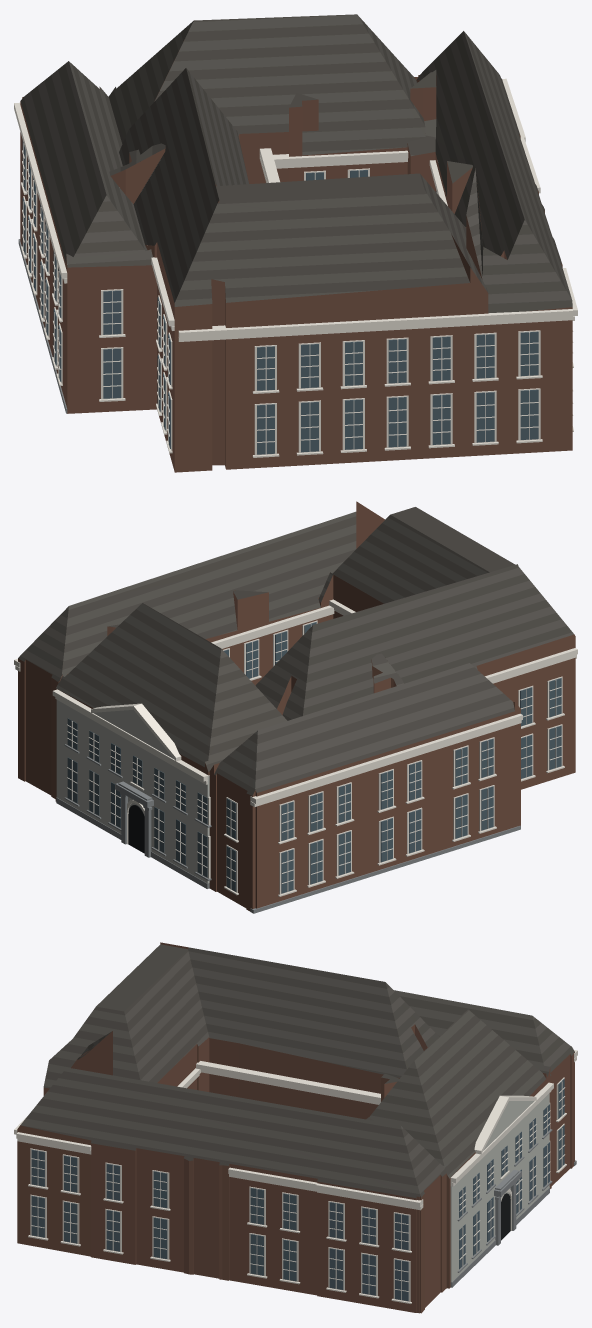
Rendered from west-india-house.glb.
3 views of the same model, one above another, from view 1: azimuth 30°, elevation 25°; view 2: azimuth 150°, elevation 25°; view 3: azimuth 270°, elevation 25° (orthographic). The views are drawn at different scales.
Visible parts, largest first — view 1: west-india-house; view 2: west-india-house; view 3: west-india-house.
Boxes of the visible parts, left/top/right/bottom form: west-india-house: left=14, top=14, right=577, bottom=472; west-india-house: left=14, top=501, right=577, bottom=913; west-india-house: left=14, top=942, right=577, bottom=1313.
Size of the model in its own units: 37.44 by 16.94 by 43.13.
